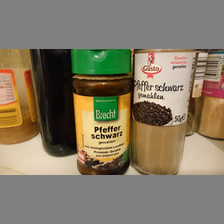spices: (132, 49, 197, 174), (71, 50, 132, 174)
